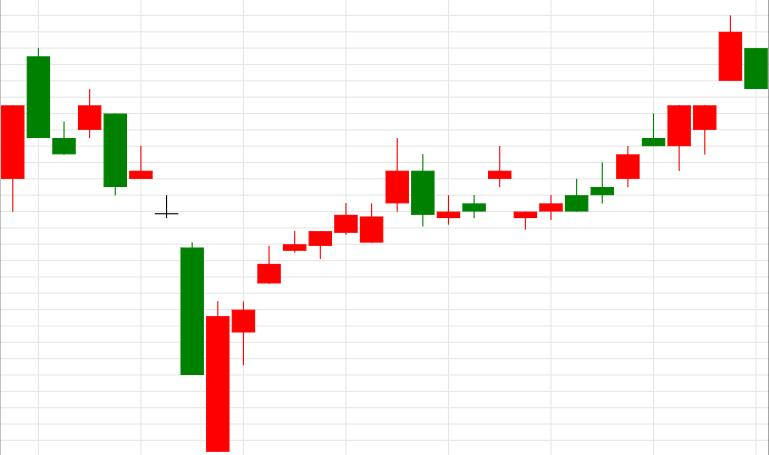shooting_star_fall: (206, 139, 409, 453)
